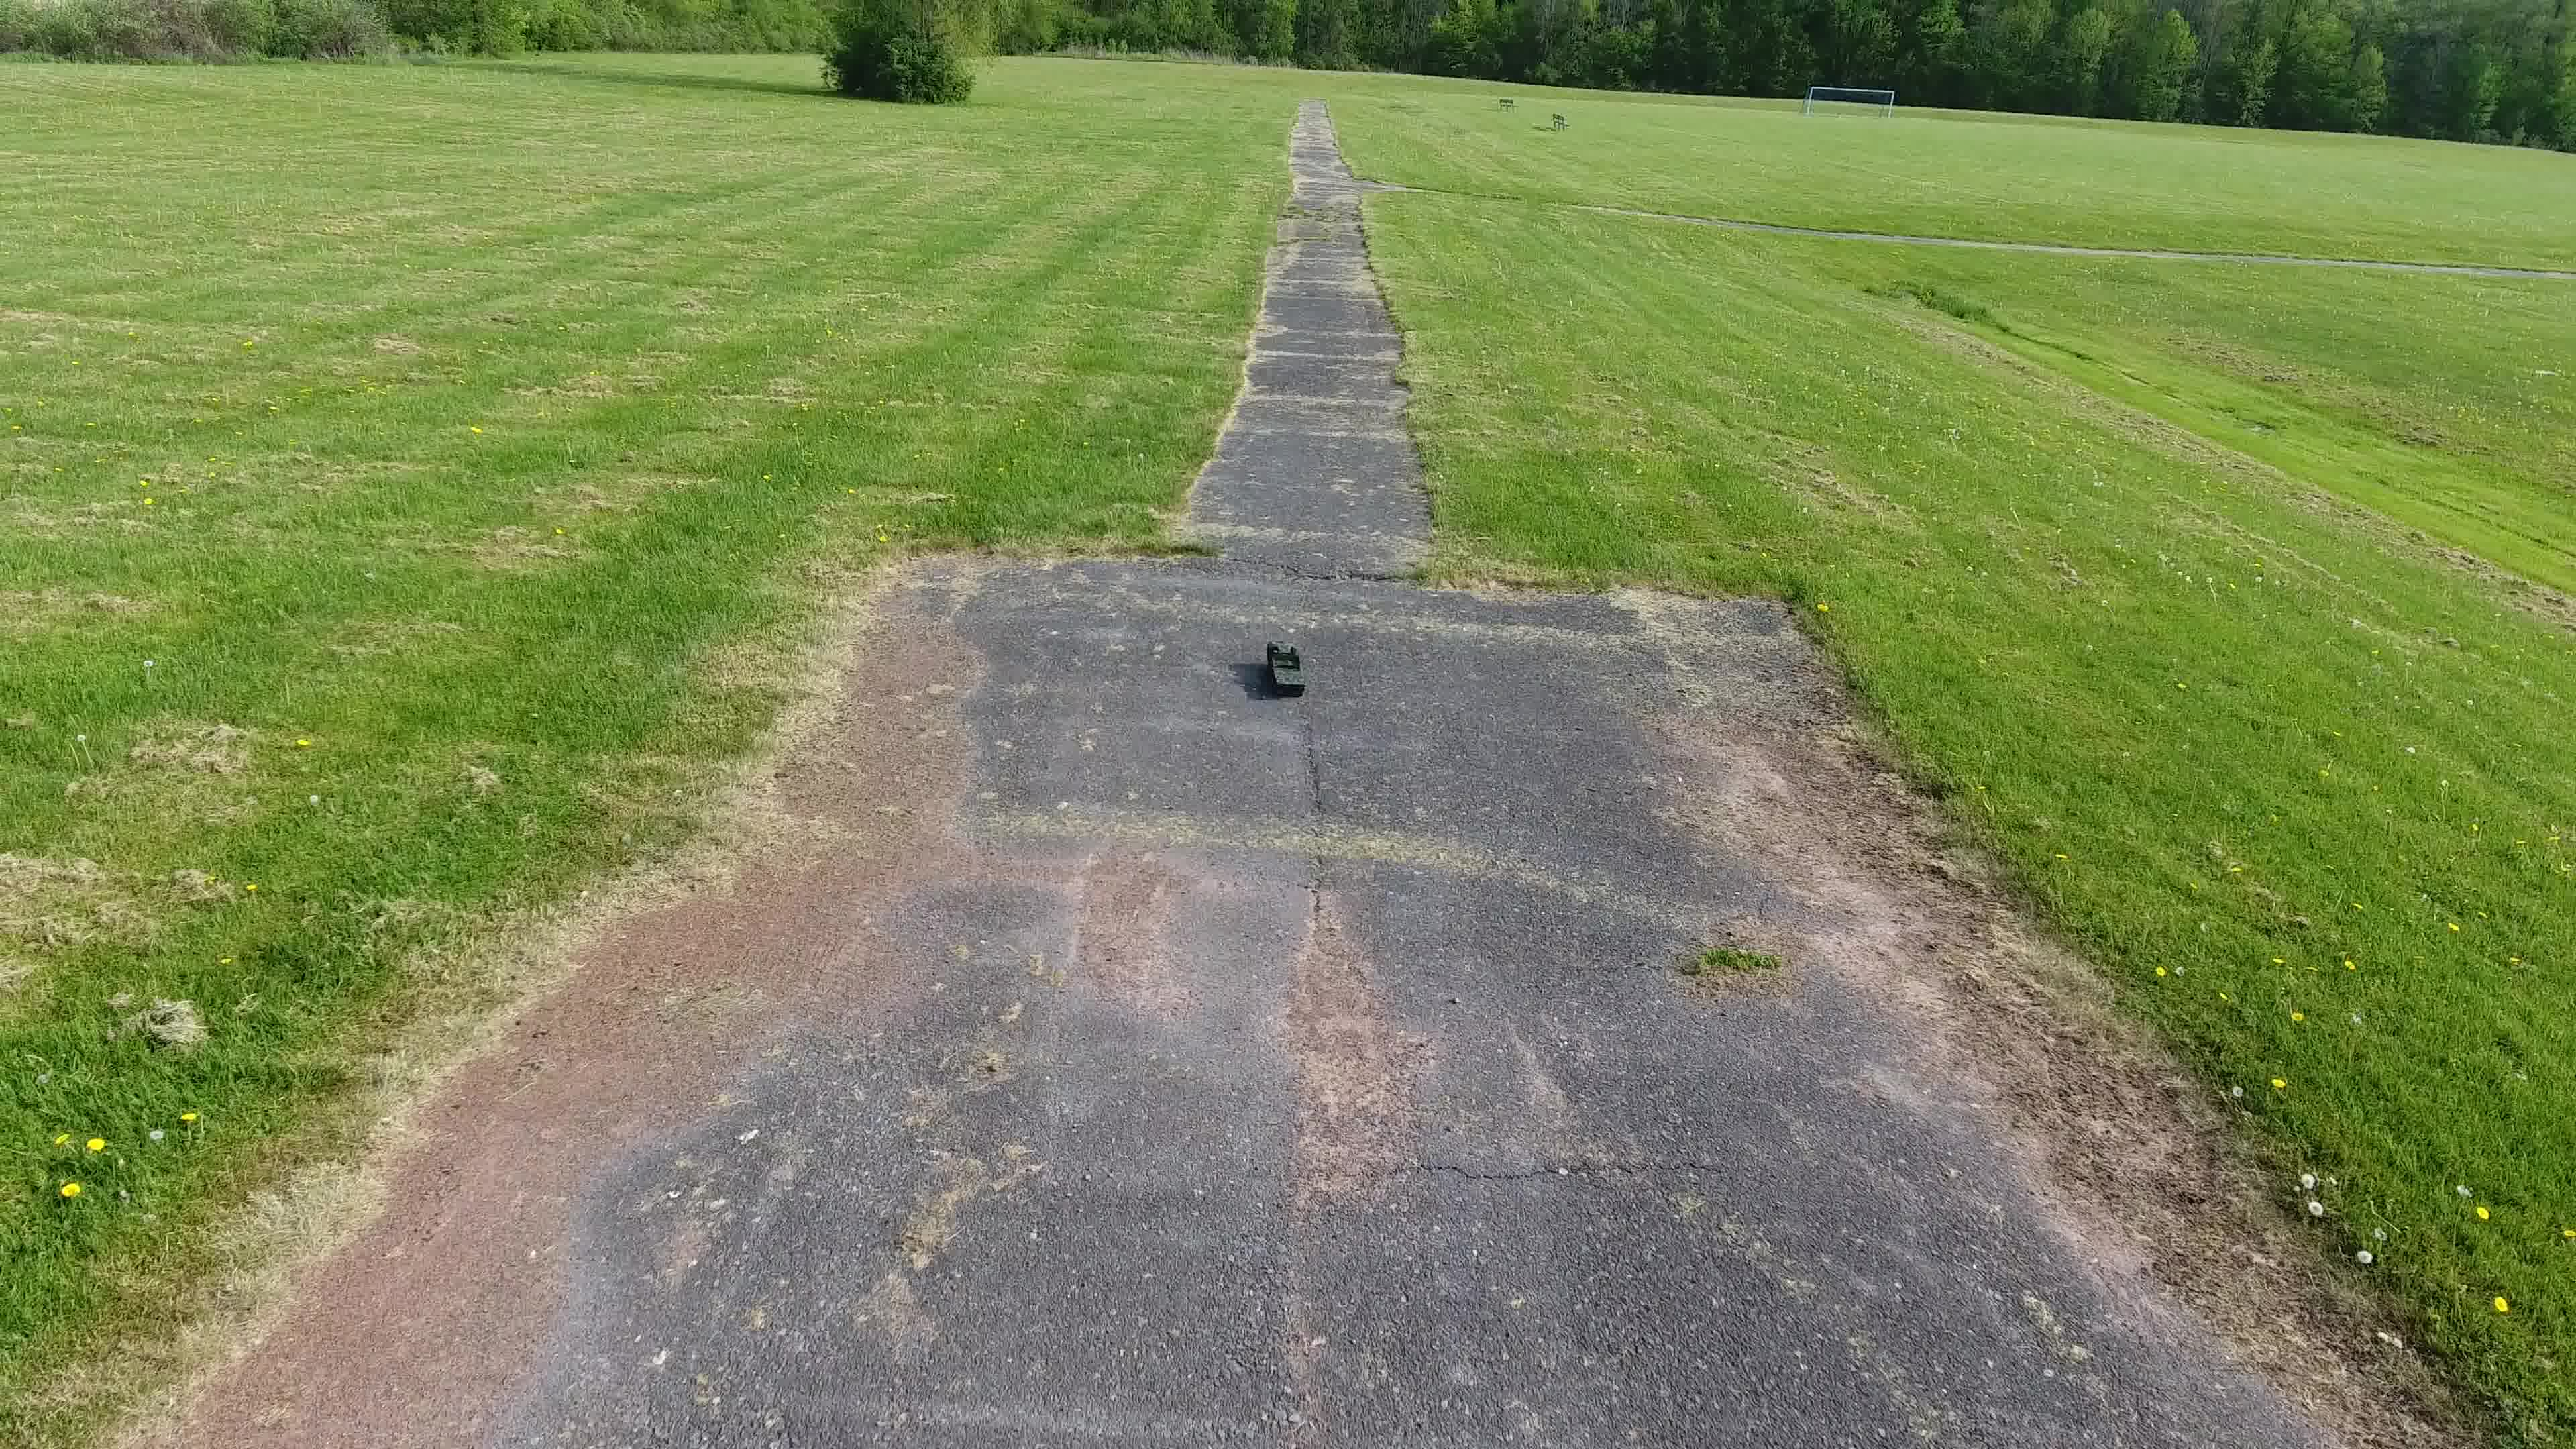transporter9_camo: (1265, 639, 1309, 697)
